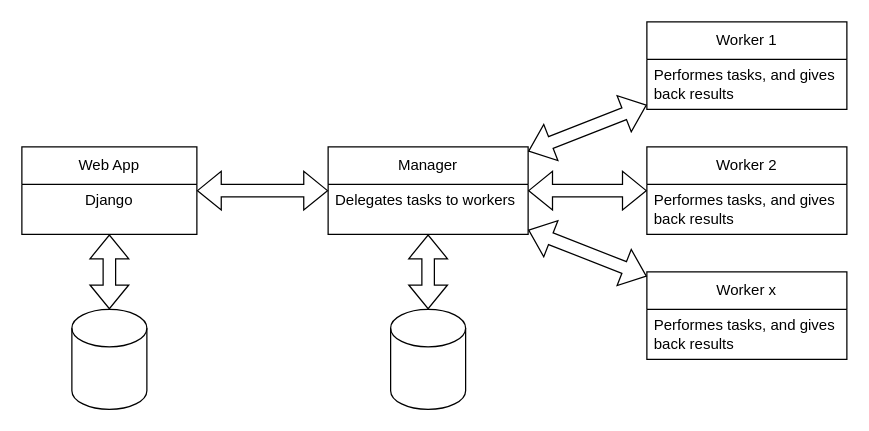
The diagram is 869 pixels wide and 431 high, and some of its shapes have lost their labels. The shapes that lost their labels are listed below. From the top down, each one's centre as x and y in pixels, then its label:
At pixel 109 358: "Web App Database".
At pixel 427 358: "Manager Database".
